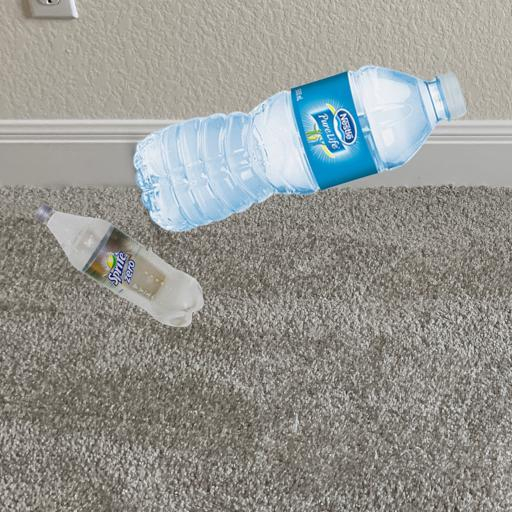bottle: (124, 129, 470, 162), (93, 277, 117, 284)
